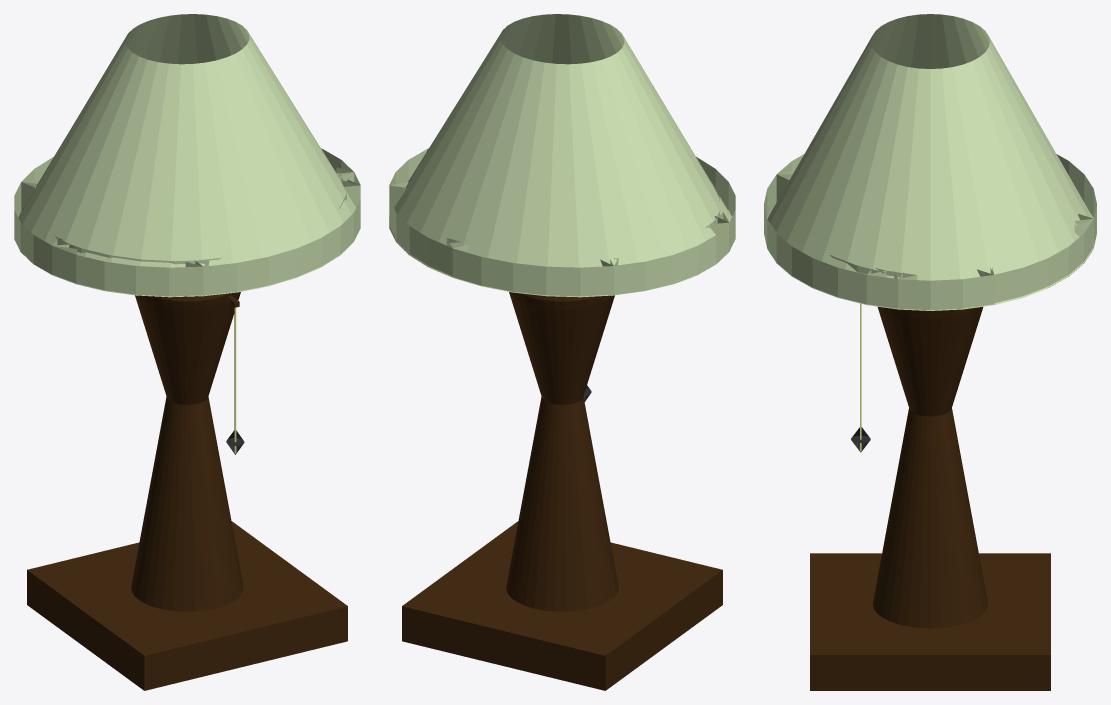
The model's file is Lamp.fbx.
3 renders of one model, left to right at view 1: azimuth 30°, elevation 25°; view 2: azimuth 150°, elevation 25°; view 3: azimuth 270°, elevation 25°, orthographic. The views are drawn at different scales.
Visible parts, largest first — view 1: Lamp; view 2: Lamp; view 3: Lamp.
Boxes of the visible parts, x1,y1,x2,y2 form: Lamp: [14, 14, 360, 690]; Lamp: [389, 14, 735, 690]; Lamp: [764, 14, 1096, 690].
Bounding box in the file's own units: 302 × 548 × 276.
